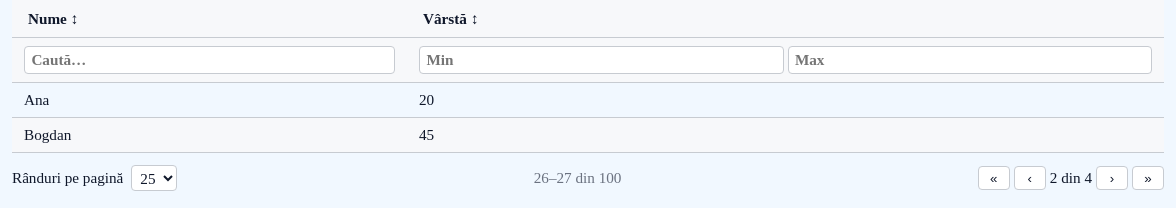
Test: DataTable server mode › moves next, previous, first, and last from the reported total
Step 1. Click the button named "Pagina următoare" → (1112, 178), box left=1096, top=166, right=1128, bottom=190
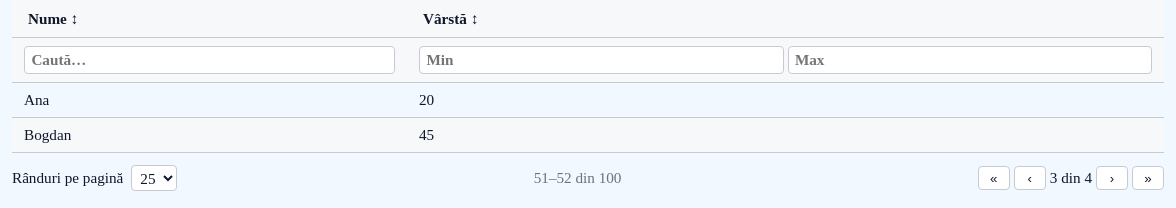
Now the text "3 din 4" is shown, box left=1050, top=169, right=1092, bottom=187
Now the text "51–52 din 100" is shown, box left=534, top=169, right=622, bottom=187
Step 2. Click the button named "Pagina anterioară" → (1030, 178), box left=1014, top=166, right=1046, bottom=190
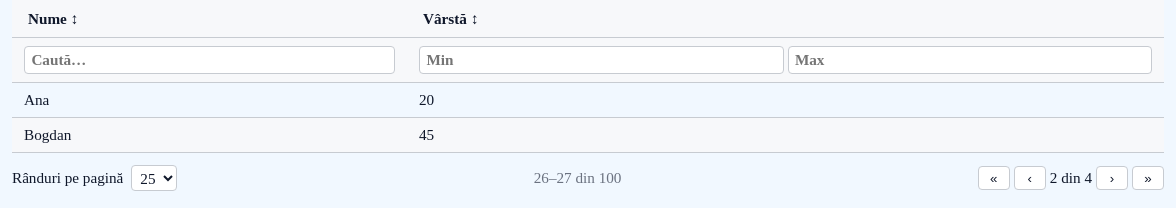
Now the text "2 din 4" is shown, box left=1050, top=169, right=1092, bottom=187
Step 3. Click the button named "Ultima pagină" → (1148, 178), box left=1132, top=166, right=1164, bottom=190
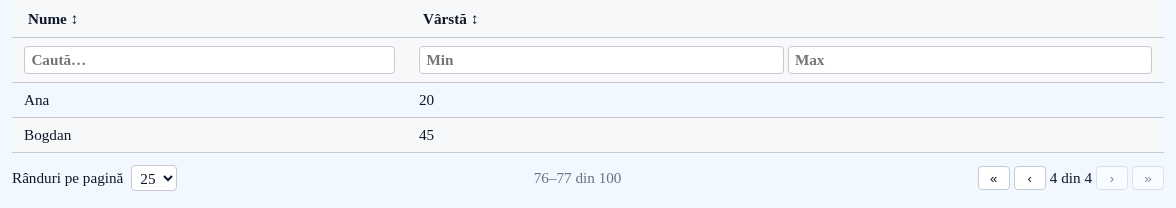
Expected: the button named "Pagina următoare" is disabled, left=1096, top=166, right=1128, bottom=190
Now the text "4 din 4" is shown, box left=1050, top=169, right=1092, bottom=187
Now the text "76–77 din 100" is shown, box left=534, top=169, right=622, bottom=187
Step 4. Click the button named "Prima pagină" → (994, 178), box left=978, top=166, right=1010, bottom=190
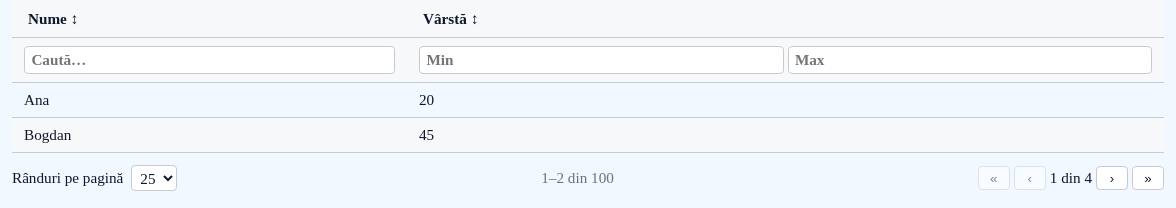
Now the text "1 din 4" is shown, box left=1050, top=169, right=1092, bottom=187
Now the text "1–2 din 100" is shown, box left=541, top=169, right=614, bottom=187
